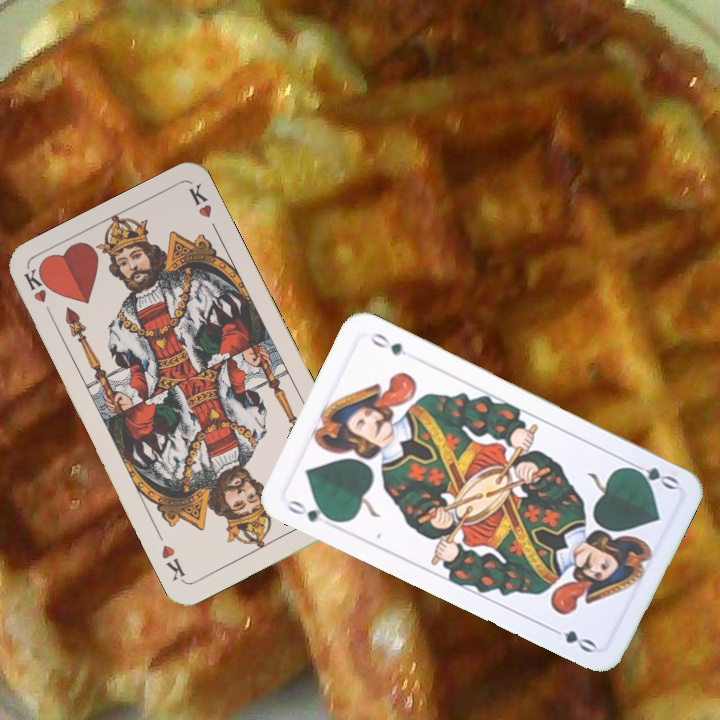GO: (622, 457, 681, 493), (283, 495, 340, 525)
HK: (20, 265, 57, 323)
